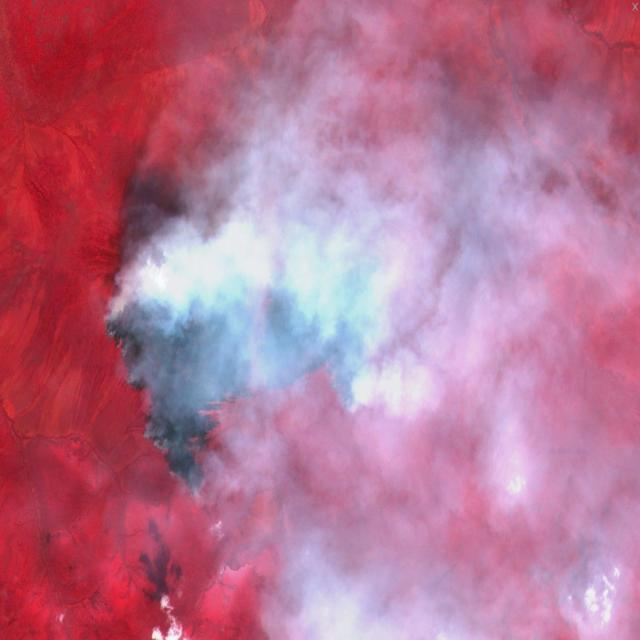fire: (104, 235, 389, 501)
